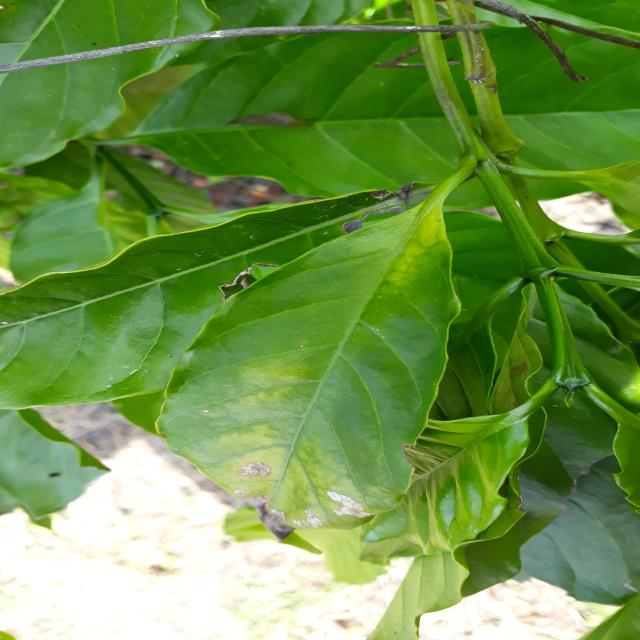Enfermedad-Roya: (159, 200, 454, 538)
